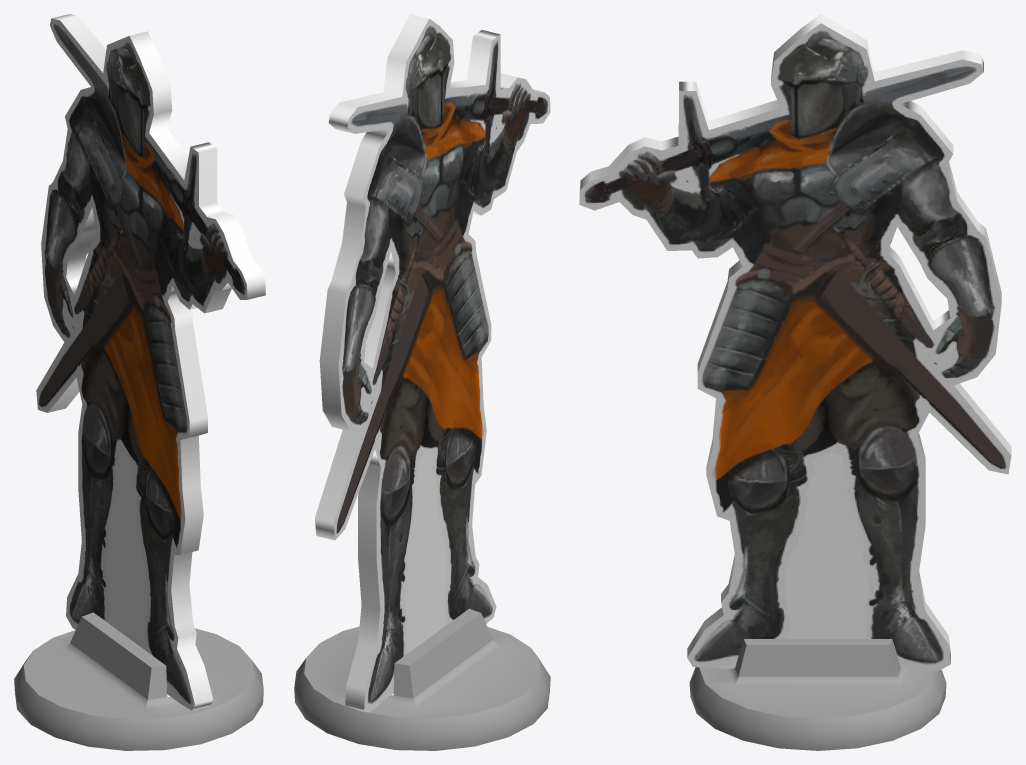
File: knight.fbx
3 views of the same model, side by side, from view 1: azimuth 30°, elevation 25°; view 2: azimuth 150°, elevation 25°; view 3: azimuth 270°, elevation 25° (orthographic). The views are drawn at different scales.
Parts seen in each view (by area): view 1: knight, pion; view 2: knight, pion; view 3: knight, pion.
Part boxes in pixels (x1=…): knight: x1=36, y1=14, x2=265, y2=710; pion: x1=14, y1=612, x2=263, y2=750; knight: x1=315, y1=14, x2=550, y2=712; pion: x1=294, y1=608, x2=550, y2=750; knight: x1=579, y1=14, x2=1011, y2=671; pion: x1=689, y1=639, x2=946, y2=750.
Size of the model in its own units: 1.98 by 5.77 by 3.33.
Materials: 2 (1 with a texture image).
